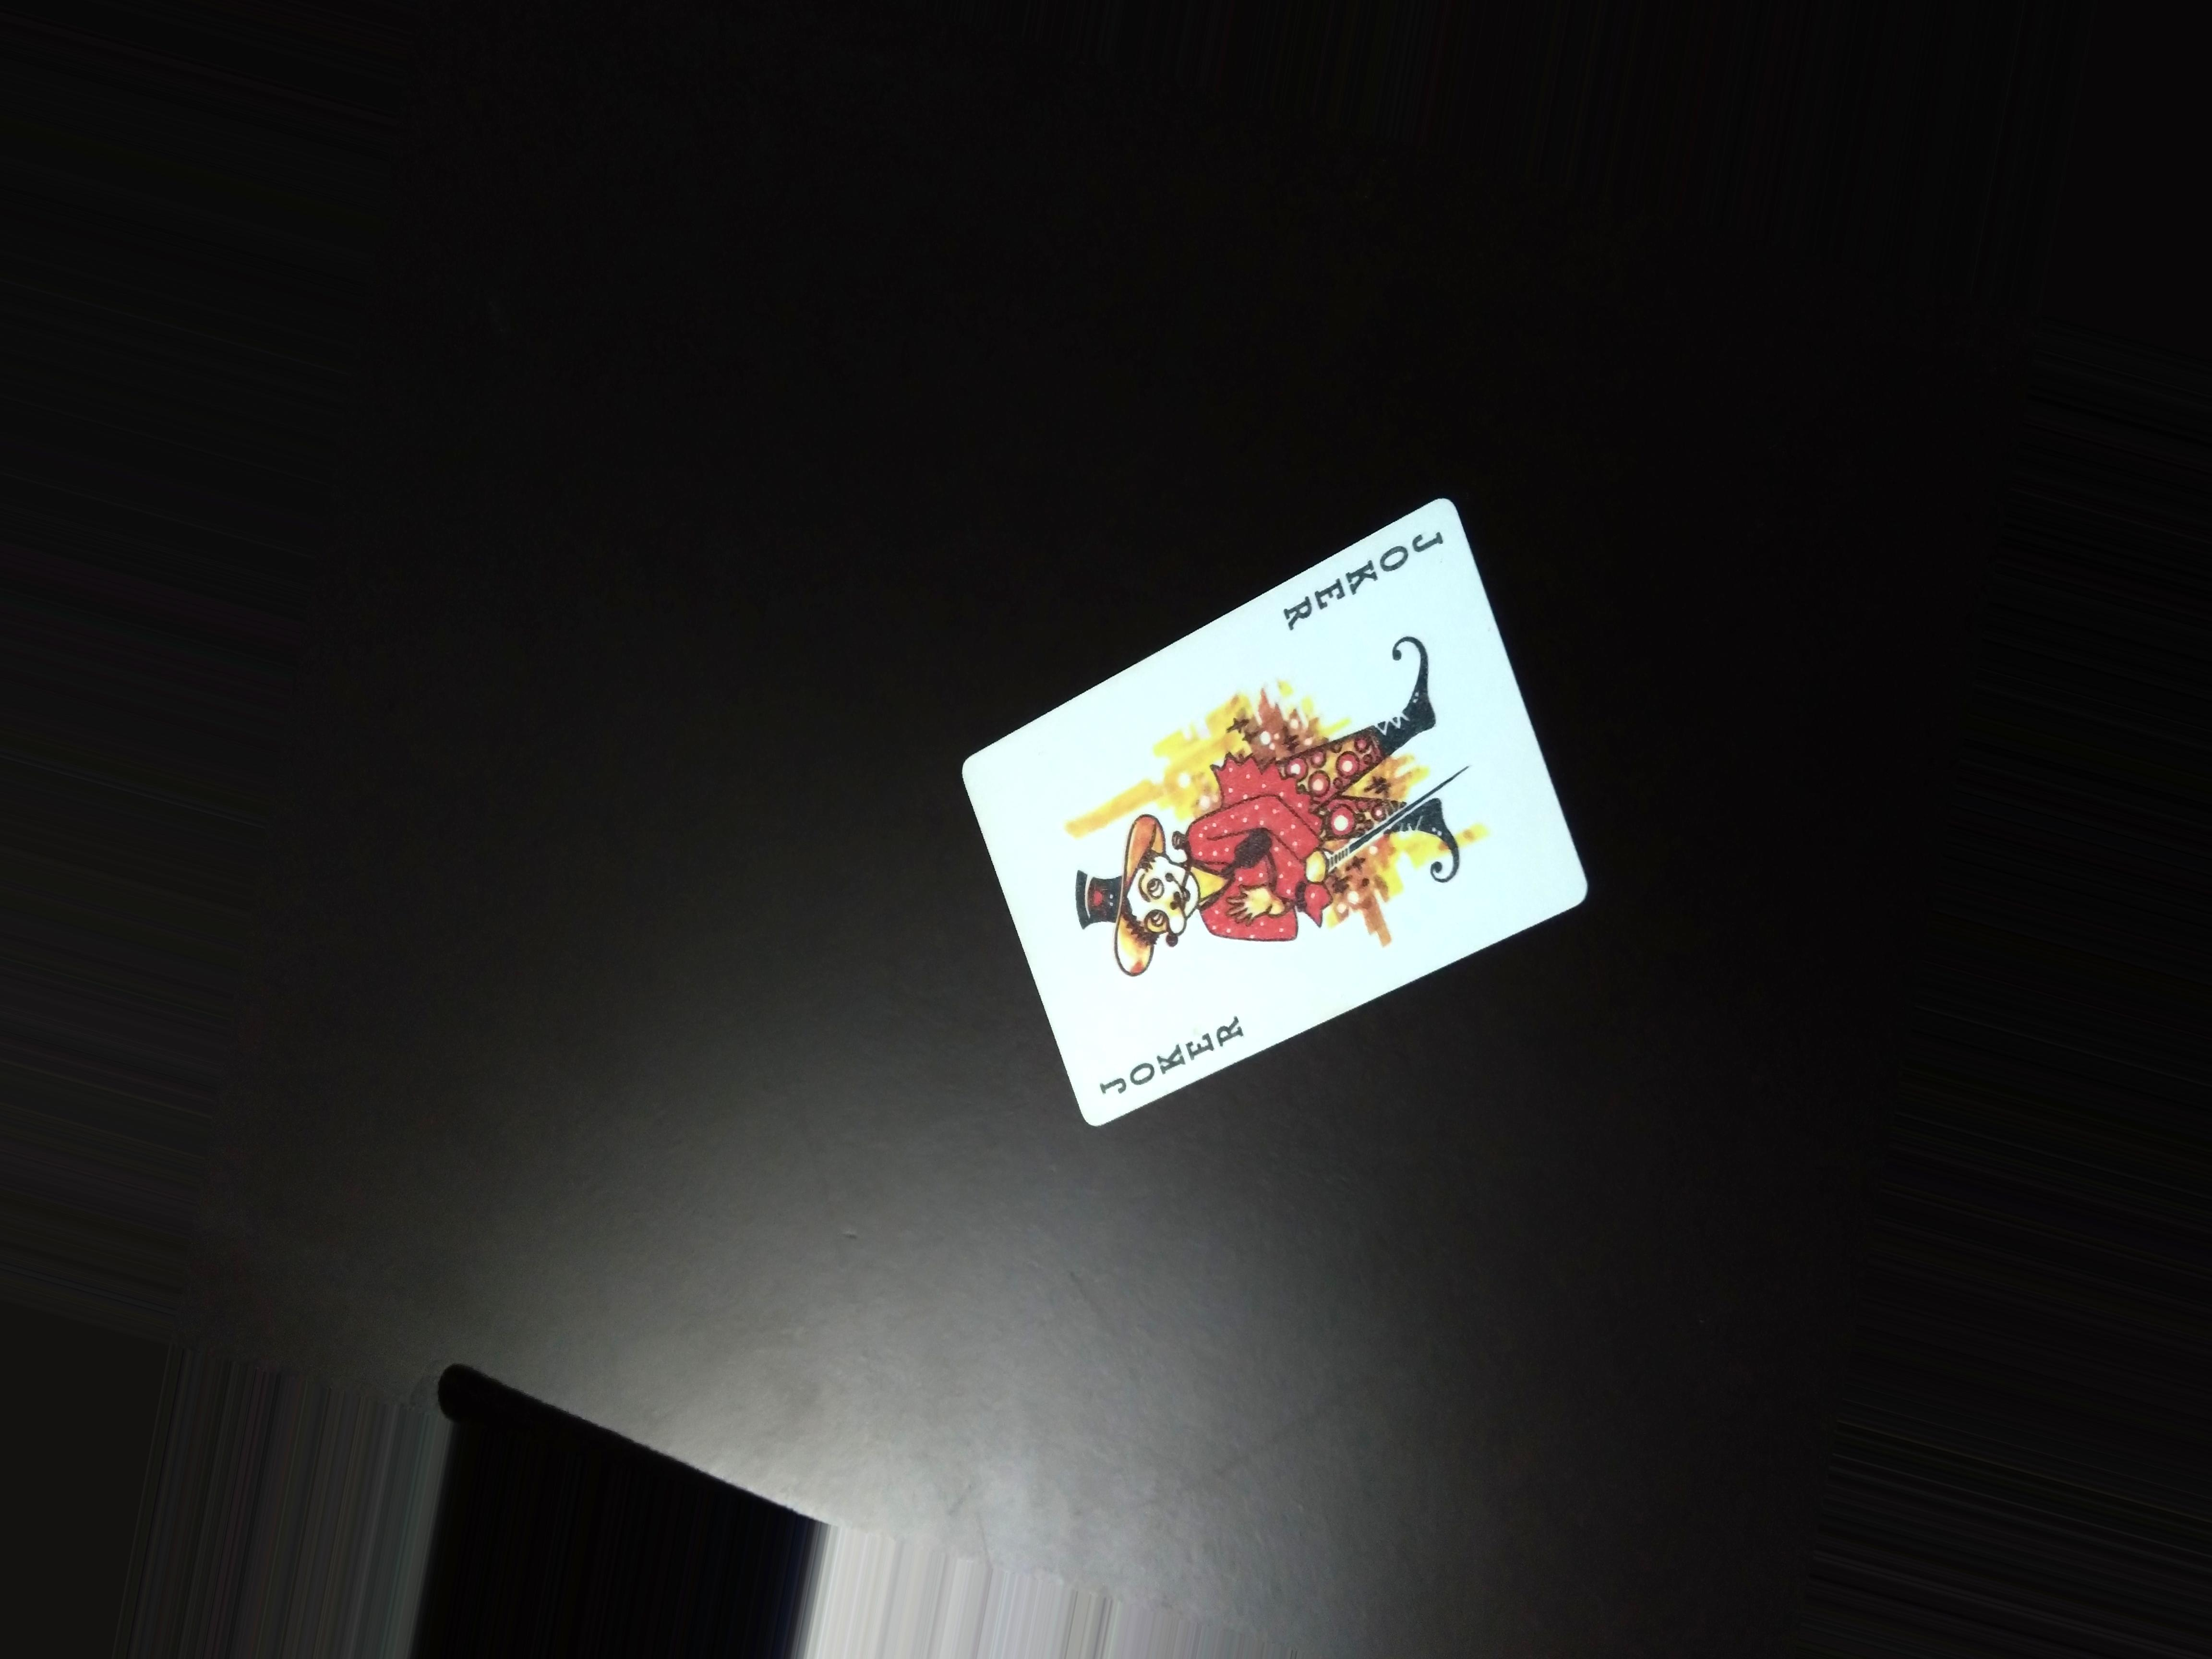JOKER: (1275, 516, 1454, 641)
